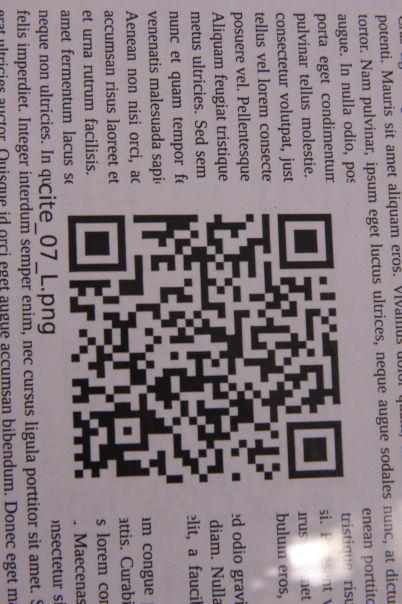Finder pattern: (284, 414, 351, 486), (272, 207, 339, 276), (66, 211, 134, 274)
